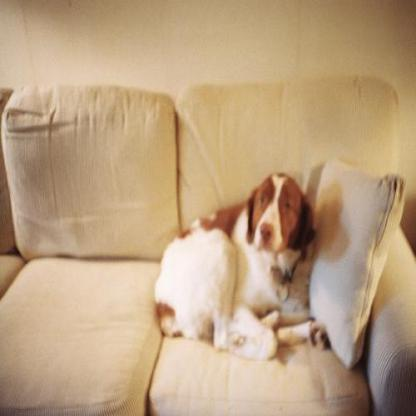Brittany_spaniel: (151, 168, 330, 362)
